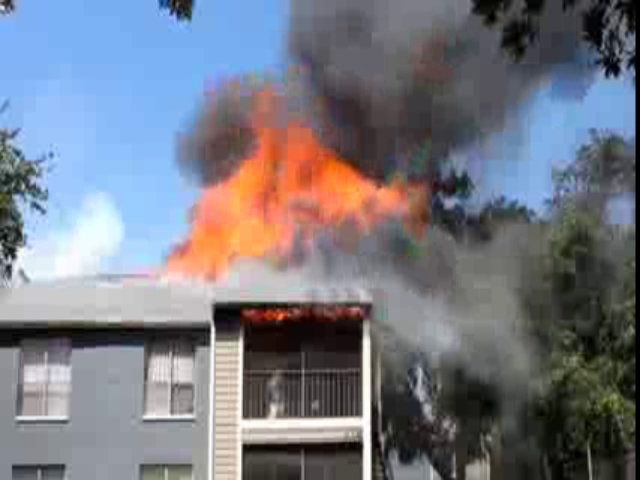fire: (185, 118, 427, 263)
